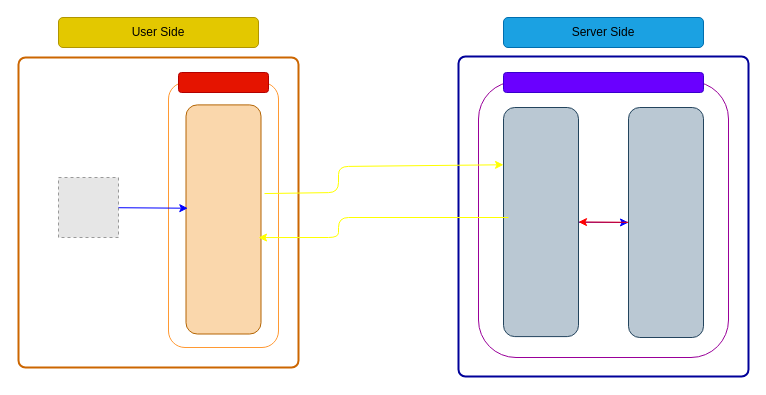
The diagram is 766 pixels wide and 395 high, and some of its shapes have lost their labels. Grey dashed boxes stand in for pictures. Each missing label, with the centre of its shape:
"Back End" belongs at [603,82].
"Font End" belongs at [223,82].
